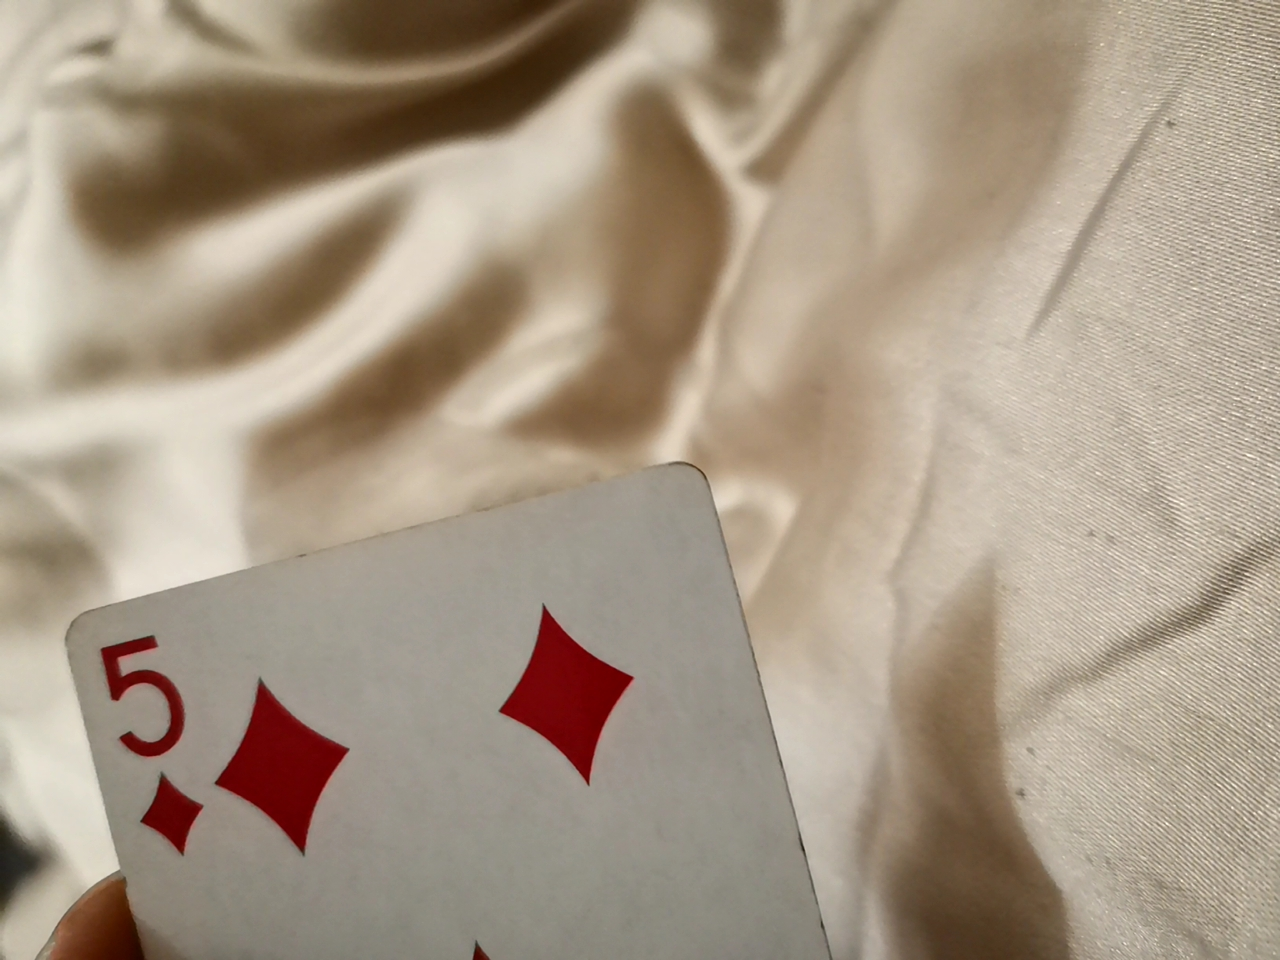fk 5: (53, 421, 812, 955)
